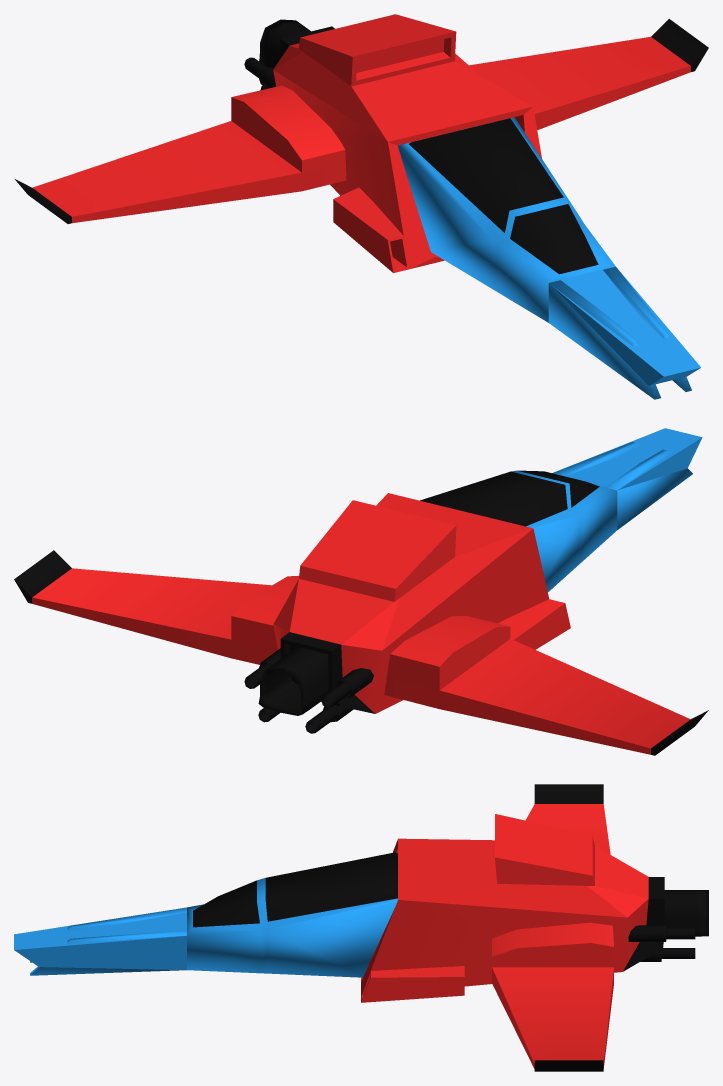
The model's file is spaceship.fbx.
3 views of the same model, one above another, from view 1: azimuth 30°, elevation 25°; view 2: azimuth 150°, elevation 25°; view 3: azimuth 270°, elevation 25° (orthographic). The views are drawn at different scales.
Parts seen in each view (by area): view 1: Chasis1, Pilot1, Wing1Right, Wing1Left, Front1, Front3, Box002, Exhaust2Fire; view 2: Chasis1, Wing1Right, Wing1Left, Pilot1, Exhaust2Fire, Front1, Front3, Box002, Exhaust2, Exhaust1TopRight; view 3: Chasis1, Pilot1, Wing1Left, Front1, Wing1Right, Box001, Front3, Exhaust2Fire, Exhaust2, Exhaust1TopLeft.
Boxes of the visible parts, x1=… form: Chasis1: x1=273, y1=14, x2=541, y2=269; Pilot1: x1=398, y1=117, x2=615, y2=322; Wing1Right: x1=15, y1=85, x2=346, y2=223; Wing1Left: x1=455, y1=19, x2=708, y2=129; Front1: x1=549, y1=268, x2=700, y2=385; Front3: x1=548, y1=266, x2=691, y2=399; Box002: x1=333, y1=187, x2=409, y2=272; Exhaust2Fire: x1=259, y1=19, x2=310, y2=67; Chasis1: x1=273, y1=493, x2=549, y2=713; Wing1Right: x1=384, y1=616, x2=708, y2=755; Wing1Left: x1=14, y1=550, x2=298, y2=664; Pilot1: x1=420, y1=470, x2=617, y2=591; Exhaust2Fire: x1=258, y1=646, x2=328, y2=715; Front1: x1=563, y1=428, x2=702, y2=489; Front3: x1=552, y1=442, x2=692, y2=529; Box002: x1=498, y1=599, x2=570, y2=649; Exhaust2: x1=280, y1=632, x2=374, y2=713; Exhaust1TopRight: x1=336, y1=668, x2=373, y2=698; Chasis1: x1=361, y1=814, x2=648, y2=995; Pilot1: x1=187, y1=852, x2=397, y2=977; Wing1Left: x1=492, y1=922, x2=613, y2=1071; Front1: x1=14, y1=912, x2=186, y2=970; Wing1Right: x1=525, y1=784, x2=610, y2=854; Box001: x1=361, y1=966, x2=464, y2=1002; Front3: x1=30, y1=907, x2=186, y2=975; Exhaust2Fire: x1=664, y1=890, x2=708, y2=936; Exhaust2: x1=623, y1=877, x2=664, y2=971; Exhaust1TopLeft: x1=628, y1=925, x2=666, y2=941.
Bounding box in the file's own units: 732 × 164 × 779.
